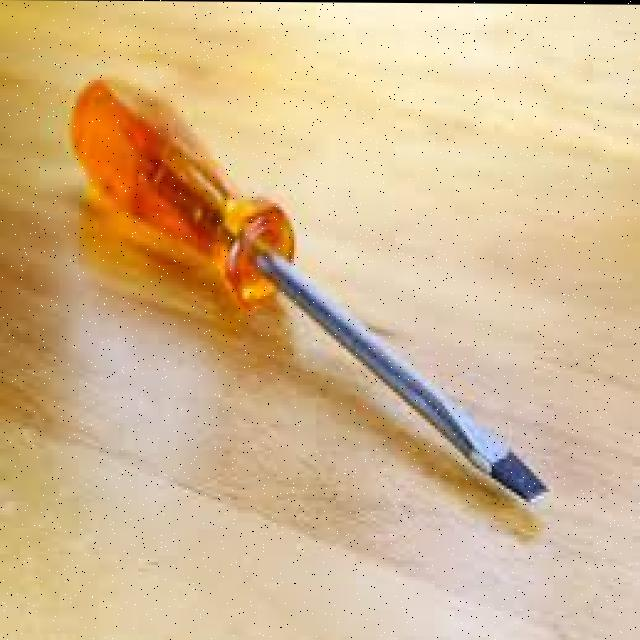Screwdriver: (71, 79, 546, 500)
